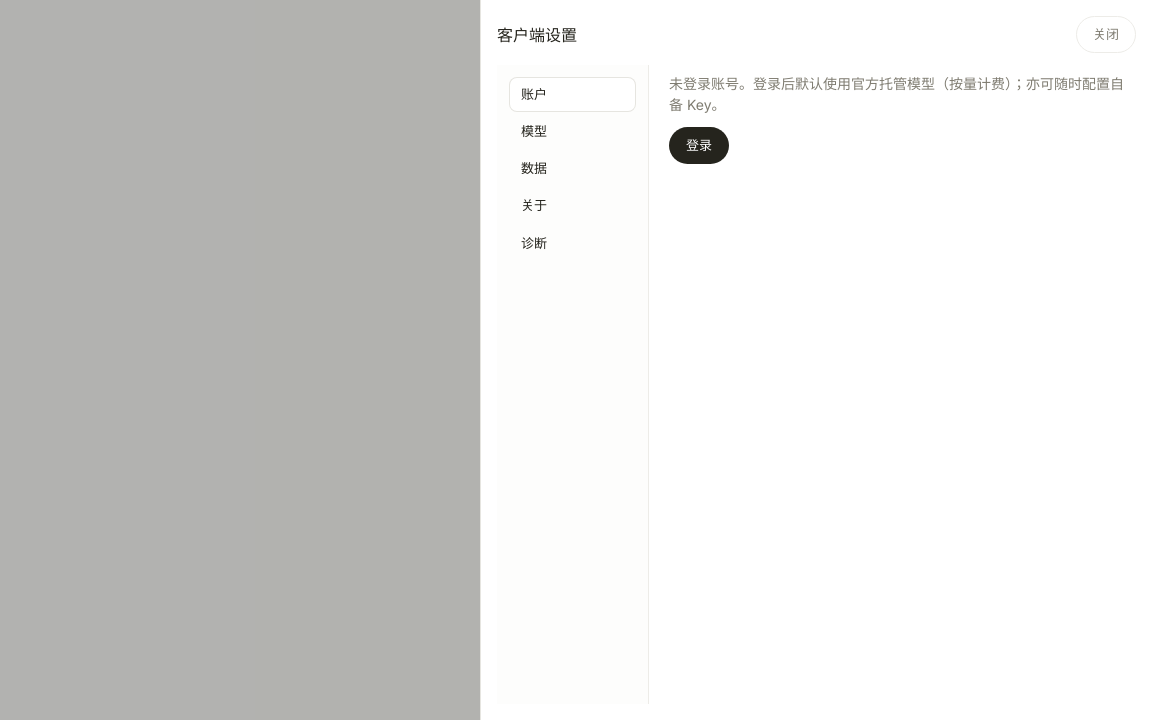
Test: DesktopSettingsDrawer 检查更新 › desktop 环境渲染「检查更新」按钮；查新无更新 → 已是最新版本
Click the button "关于" at [572, 206], box left=509, top=189, right=636, bottom=224
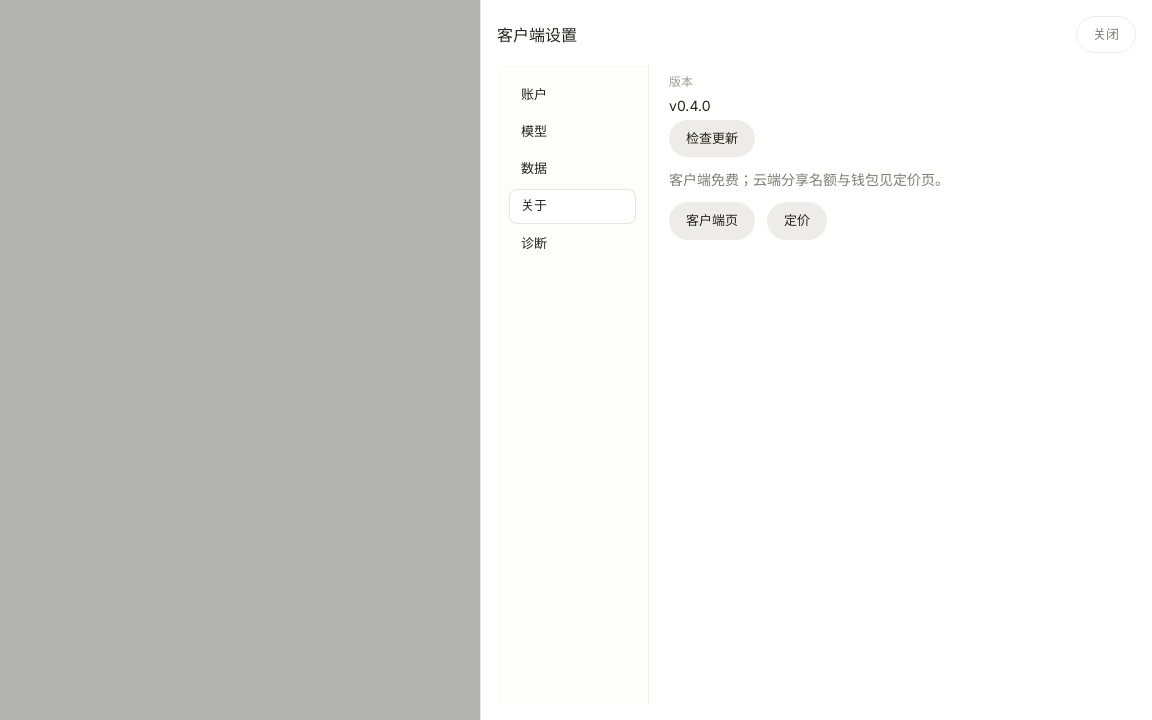
Click the button "检查更新" at [712, 139], box left=669, top=120, right=755, bottom=157
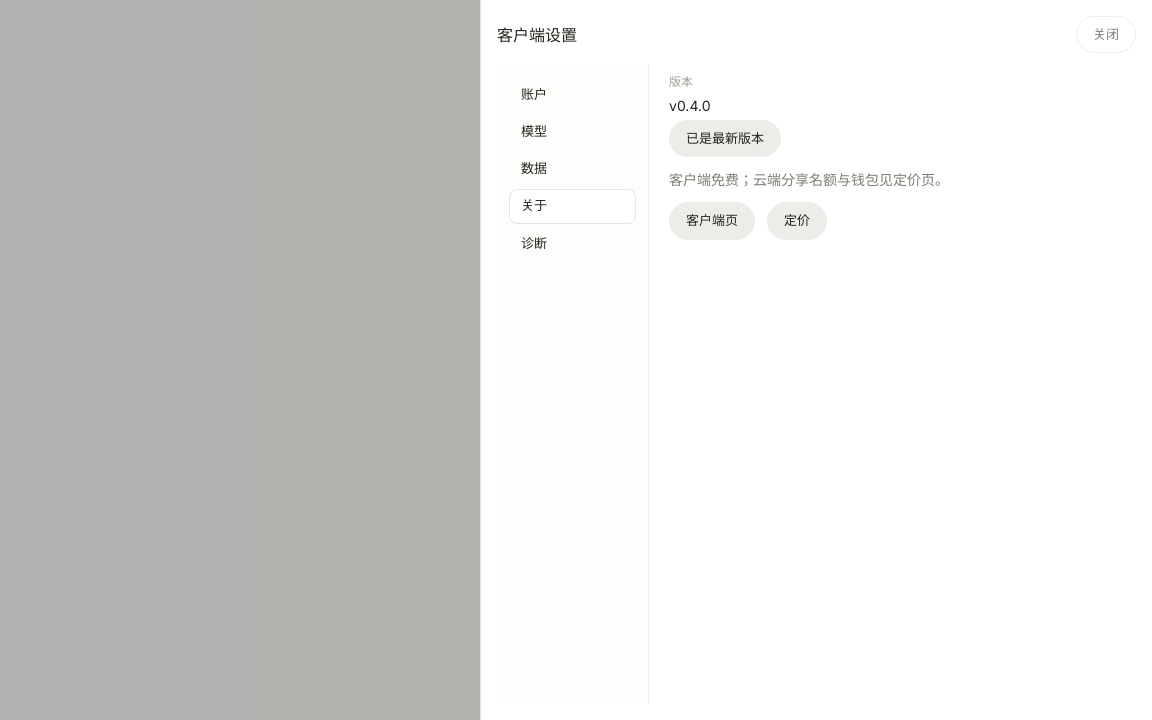
Expected: the button "已是最新版本" is shown, left=669, top=120, right=781, bottom=157
